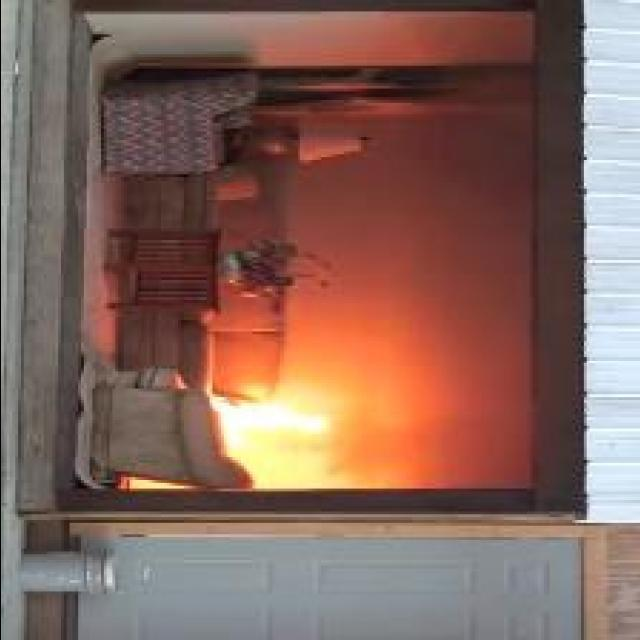Fire: (207, 402, 330, 448)
